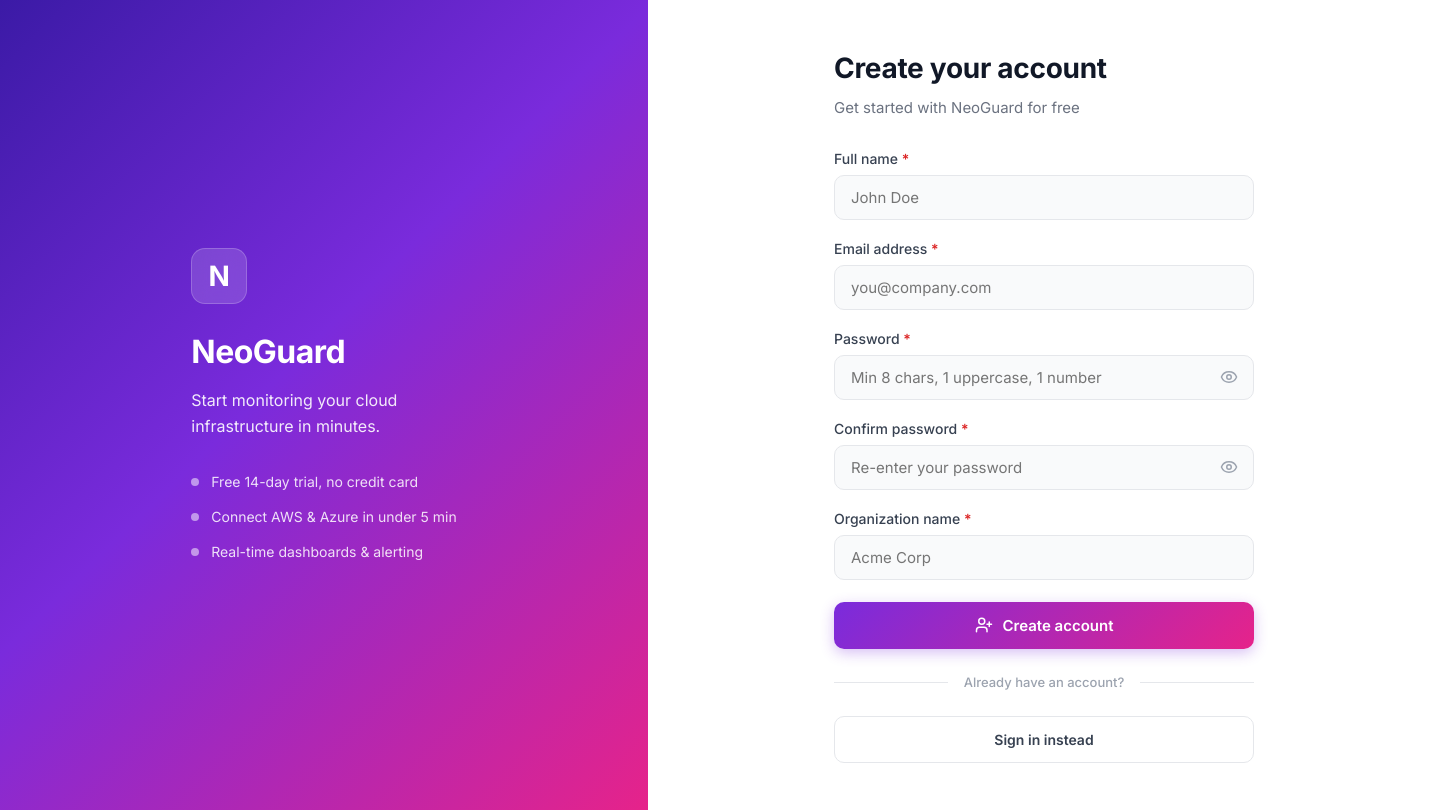
Test: SignupPage › shows error on signup failure
This screenshot has width=1440, height=810.
Type "Test" into the field with placeholder "John Doe" at (1044,197), box [834,174,1254,220]
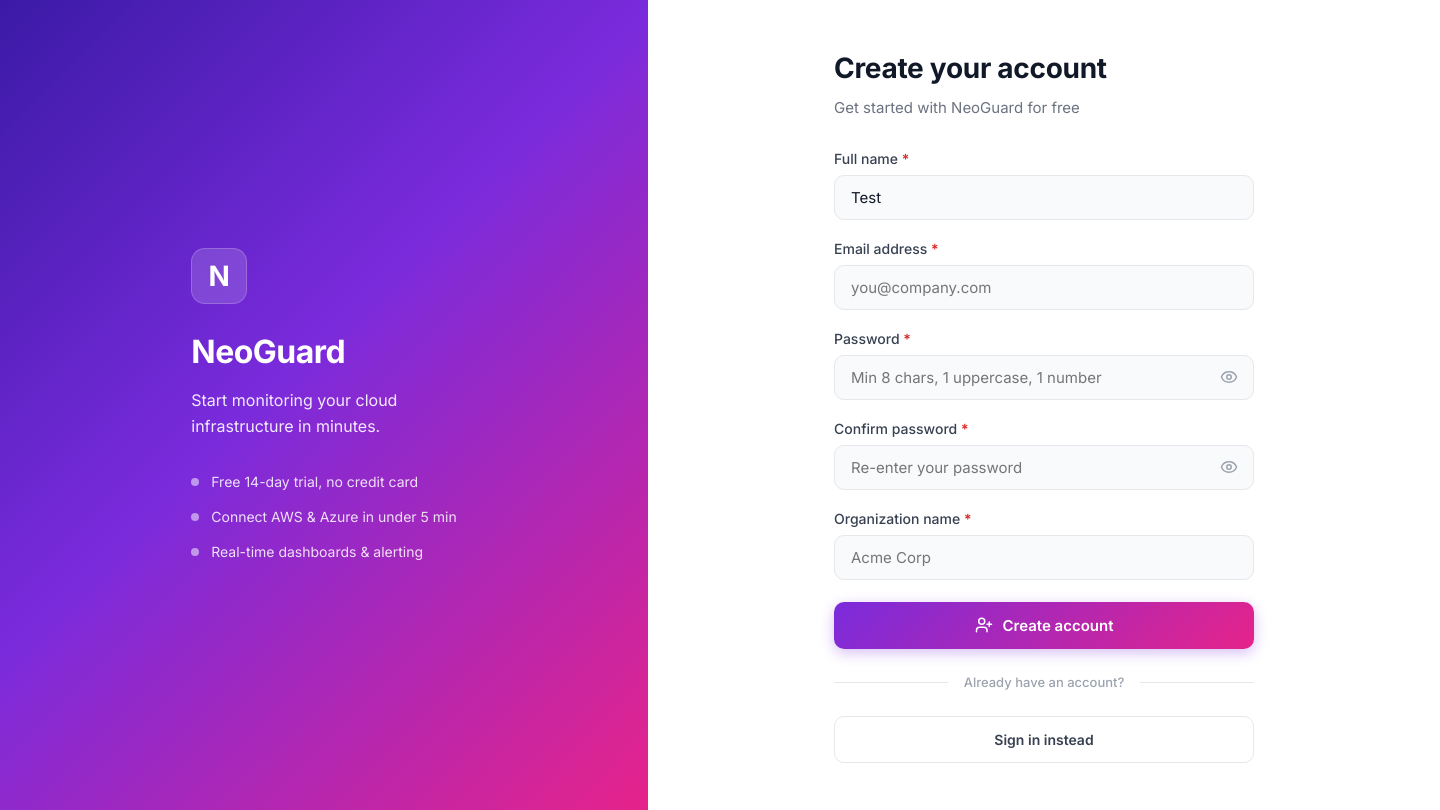
Type "t@t.com" into the field with placeholder "you@company.com" at (1044,287), box [834,264,1254,310]
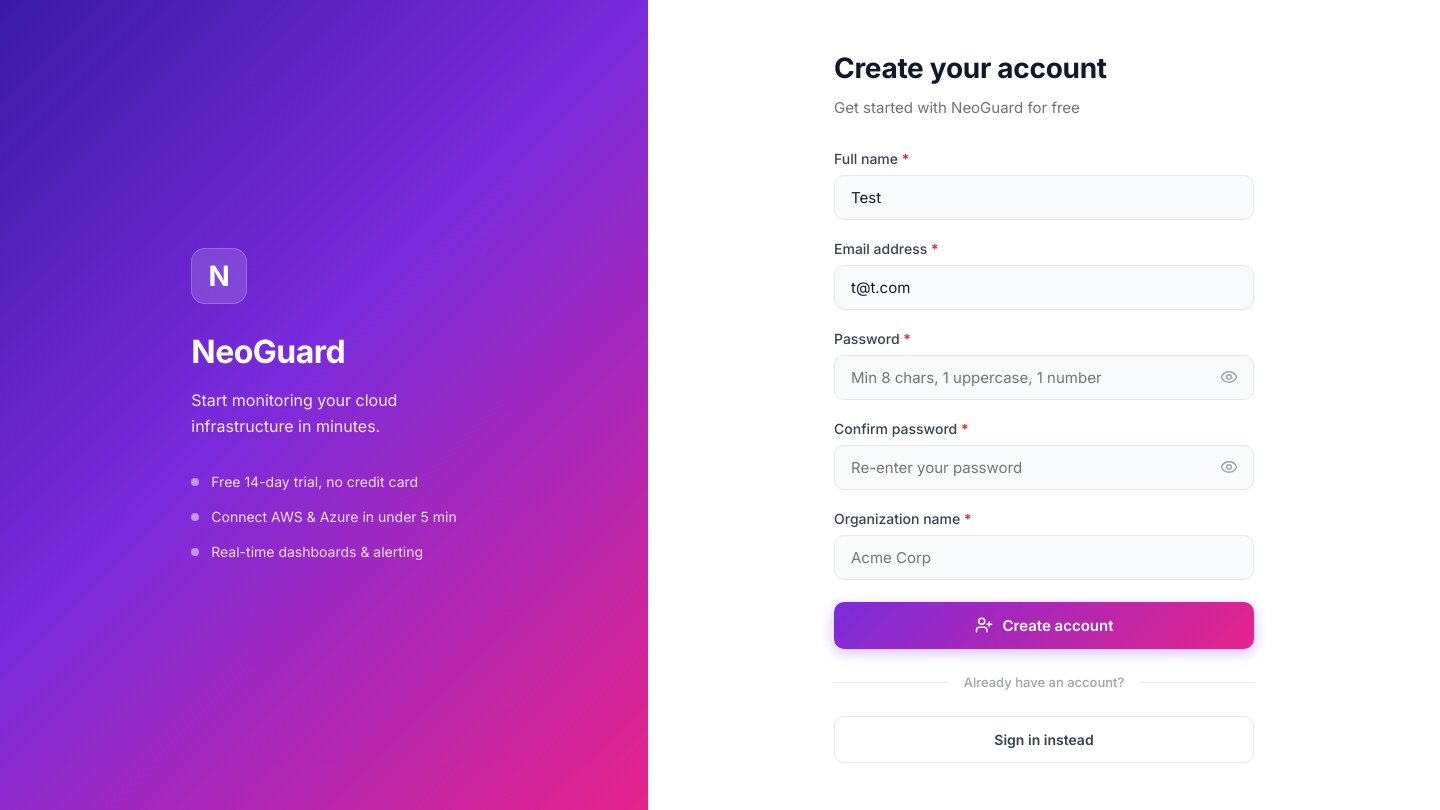
Type "Password1" into the password field with placeholder "Min 8 chars, 1 uppercase, 1 number" at (1044,377), box [834,354,1254,400]
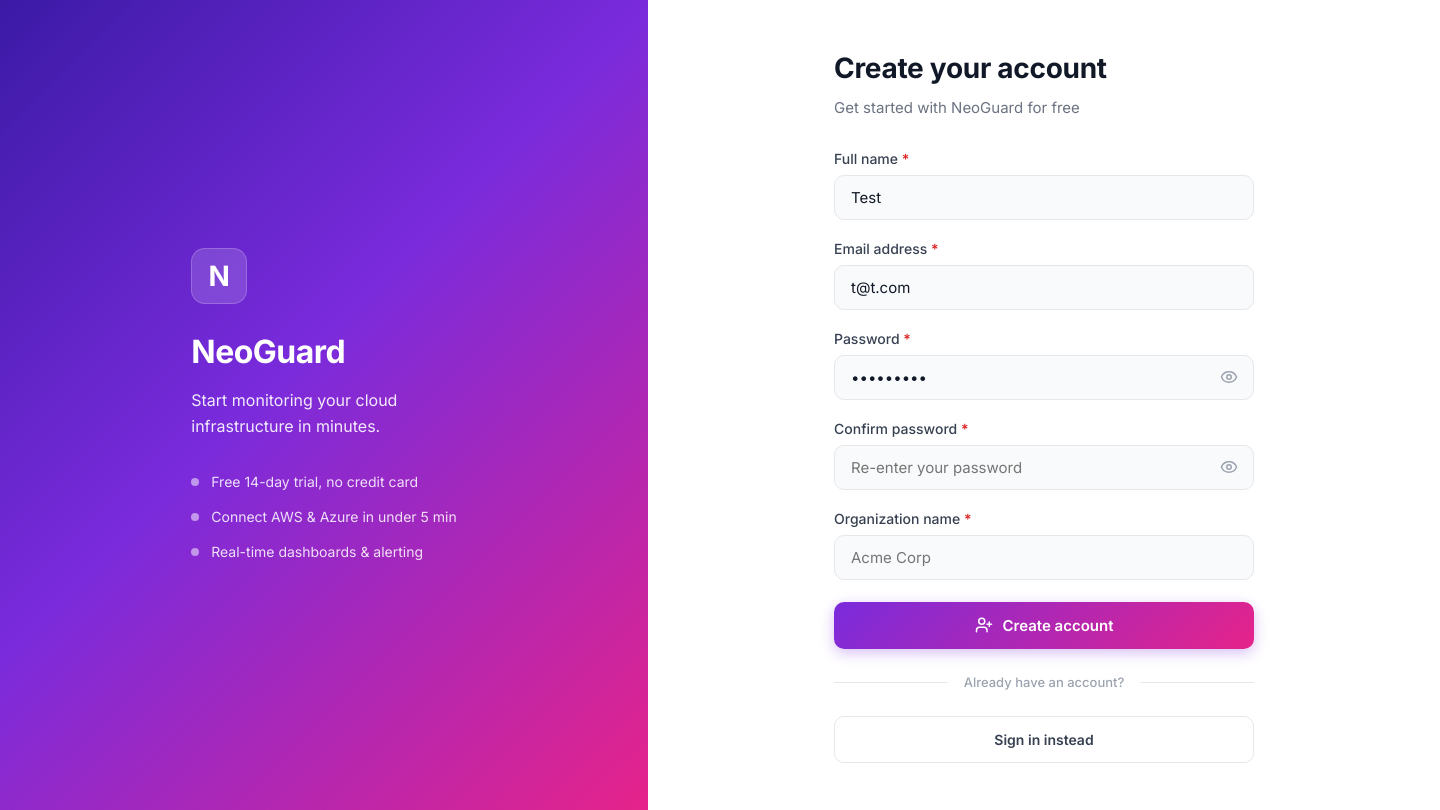
Type "Password1" into the password field with placeholder "Re-enter your password" at (1044,467), box [834,444,1254,490]
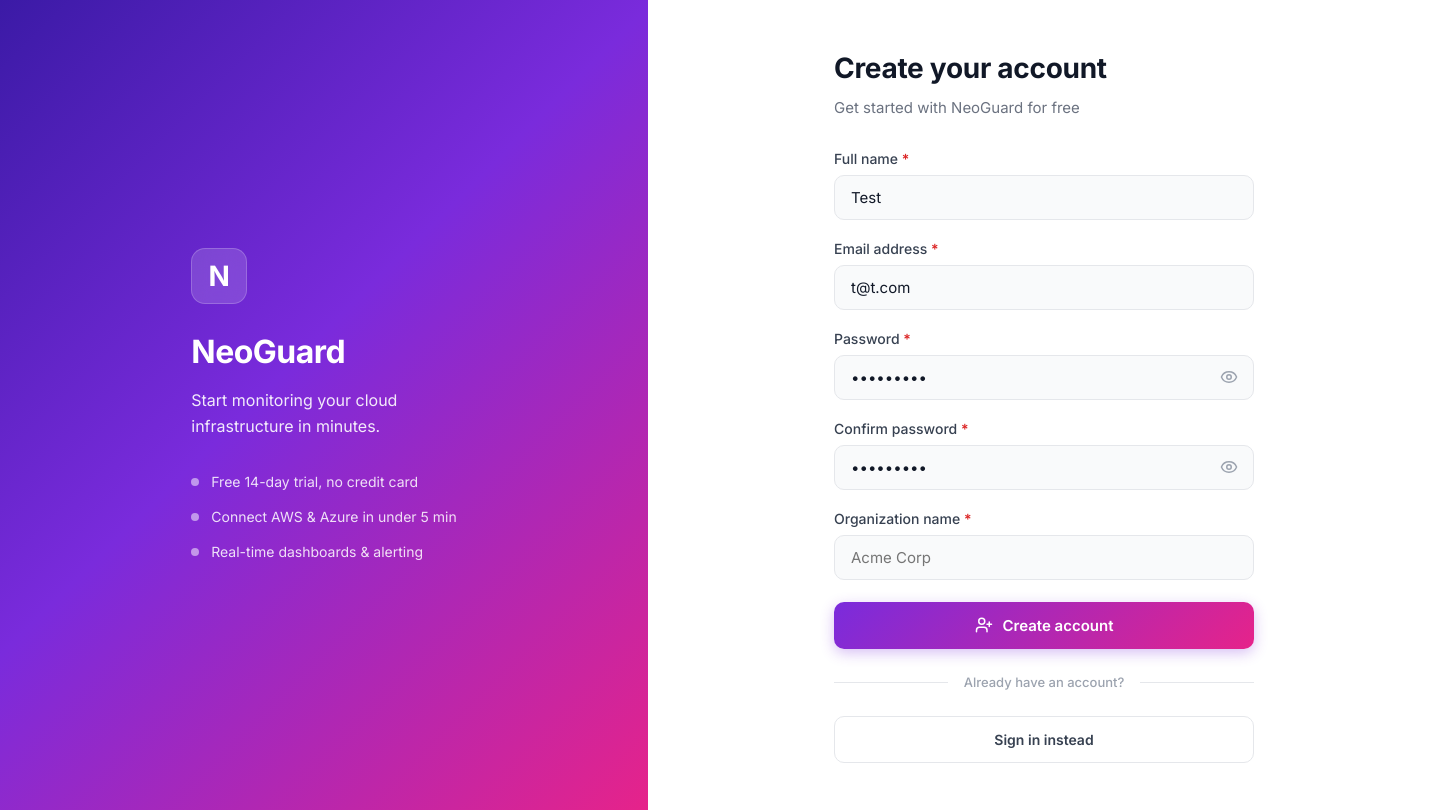
Type "TestOrg" into the field with placeholder "Acme Corp" at (1044,557), box [834,534,1254,580]
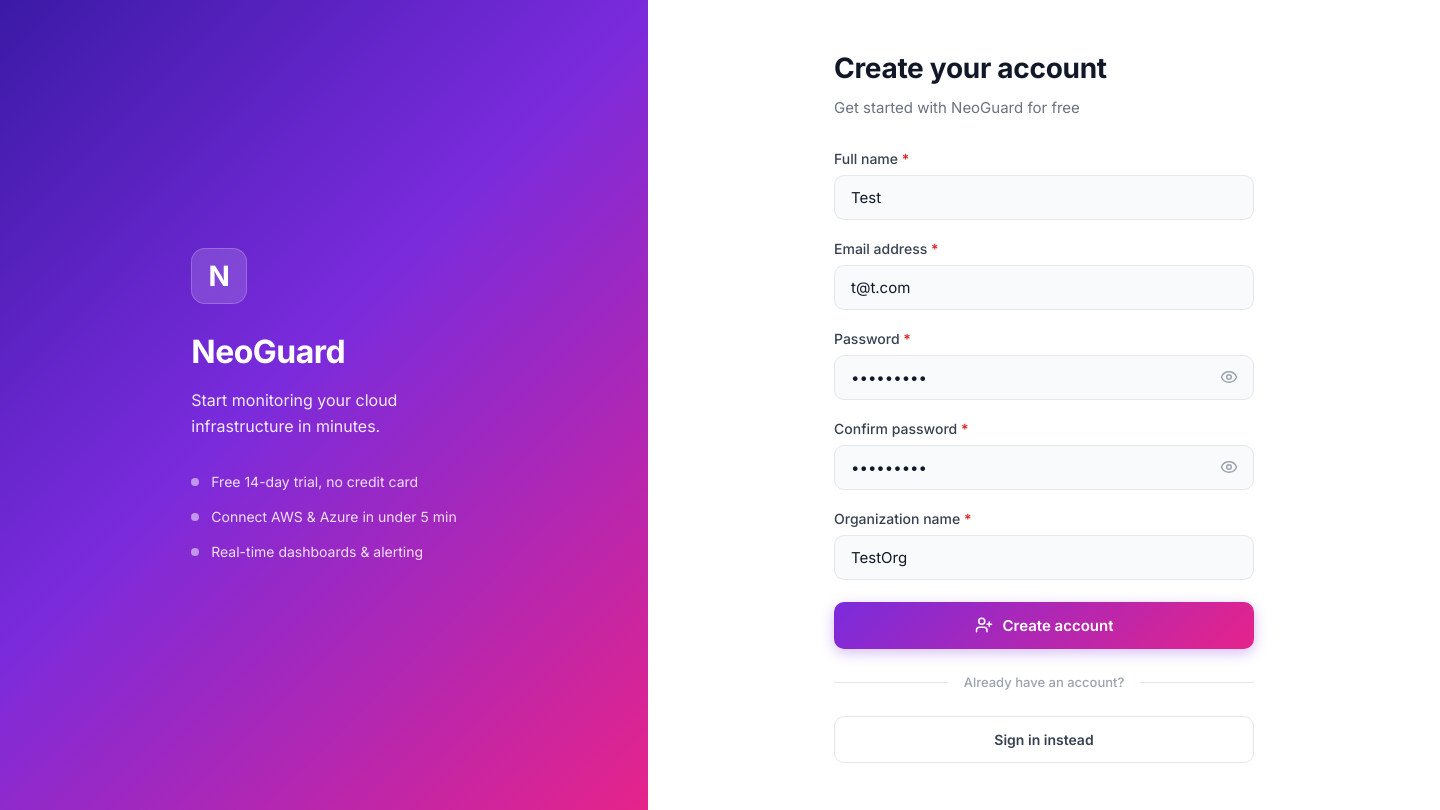
Click the button "Create account" at (1044,625), box [834,602,1254,648]
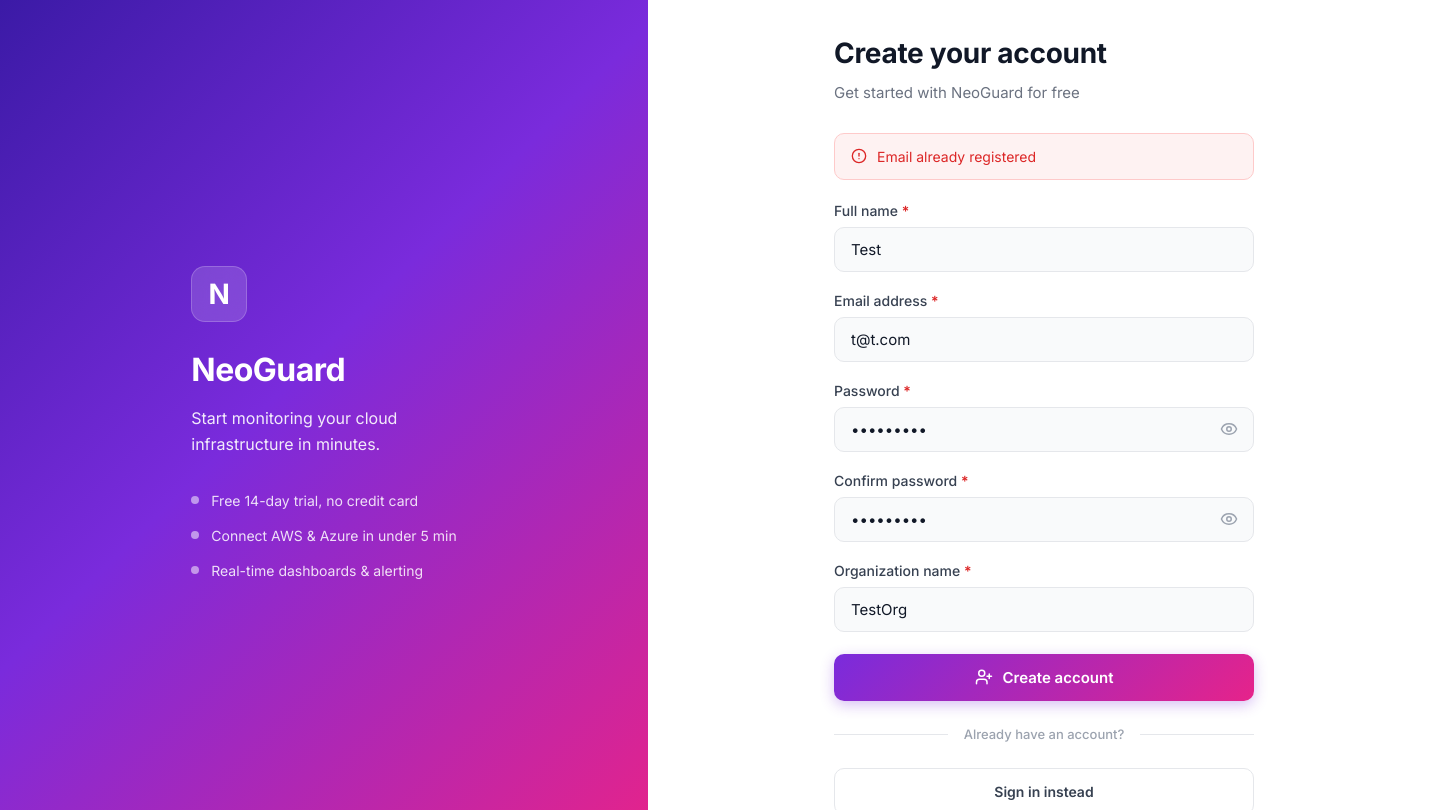
Now the text "Email already registered" is shown, box [877,146,1036,166]
